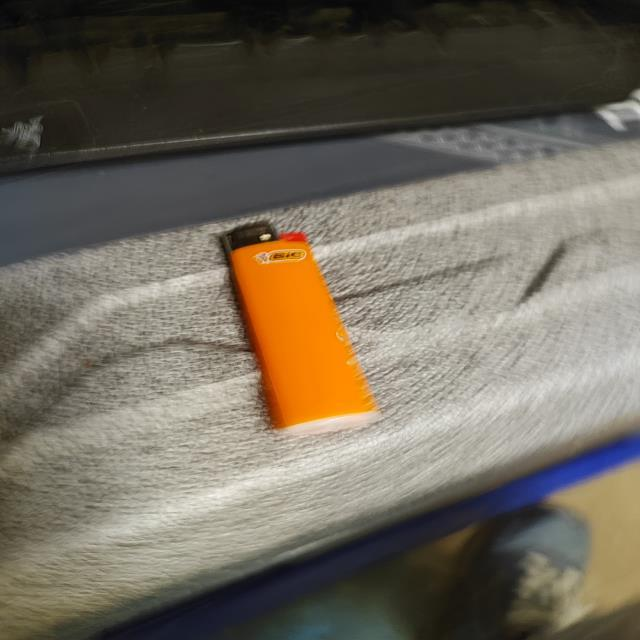lighter: (220, 221, 377, 431)
